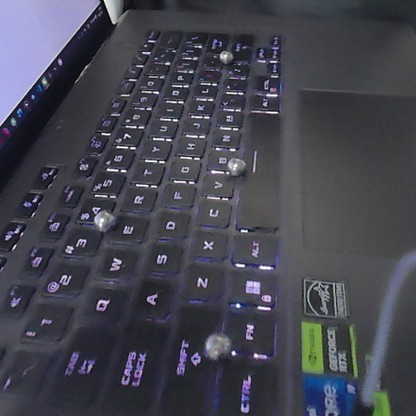ironball: (199, 325, 234, 364), (91, 208, 114, 233), (225, 155, 249, 178), (216, 48, 235, 67)
